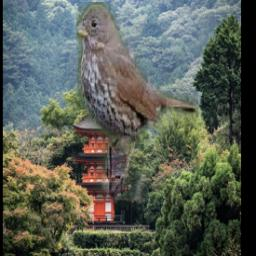Sparrow: (75, 2, 197, 200)
